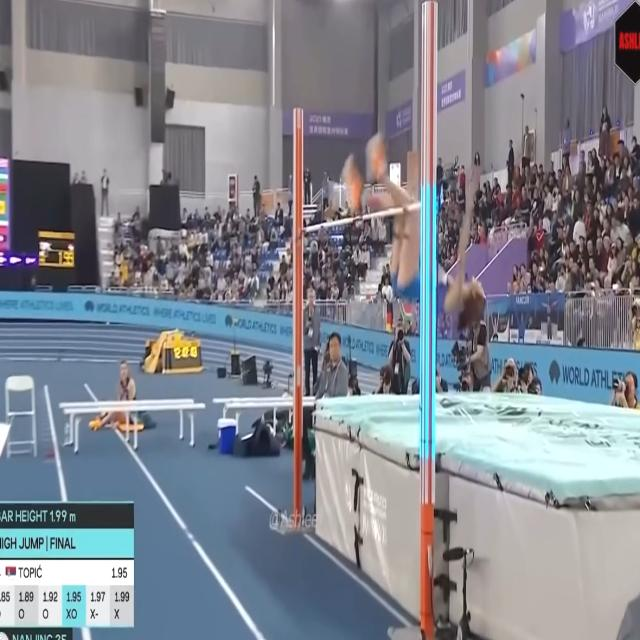land: (344, 139, 486, 325)
